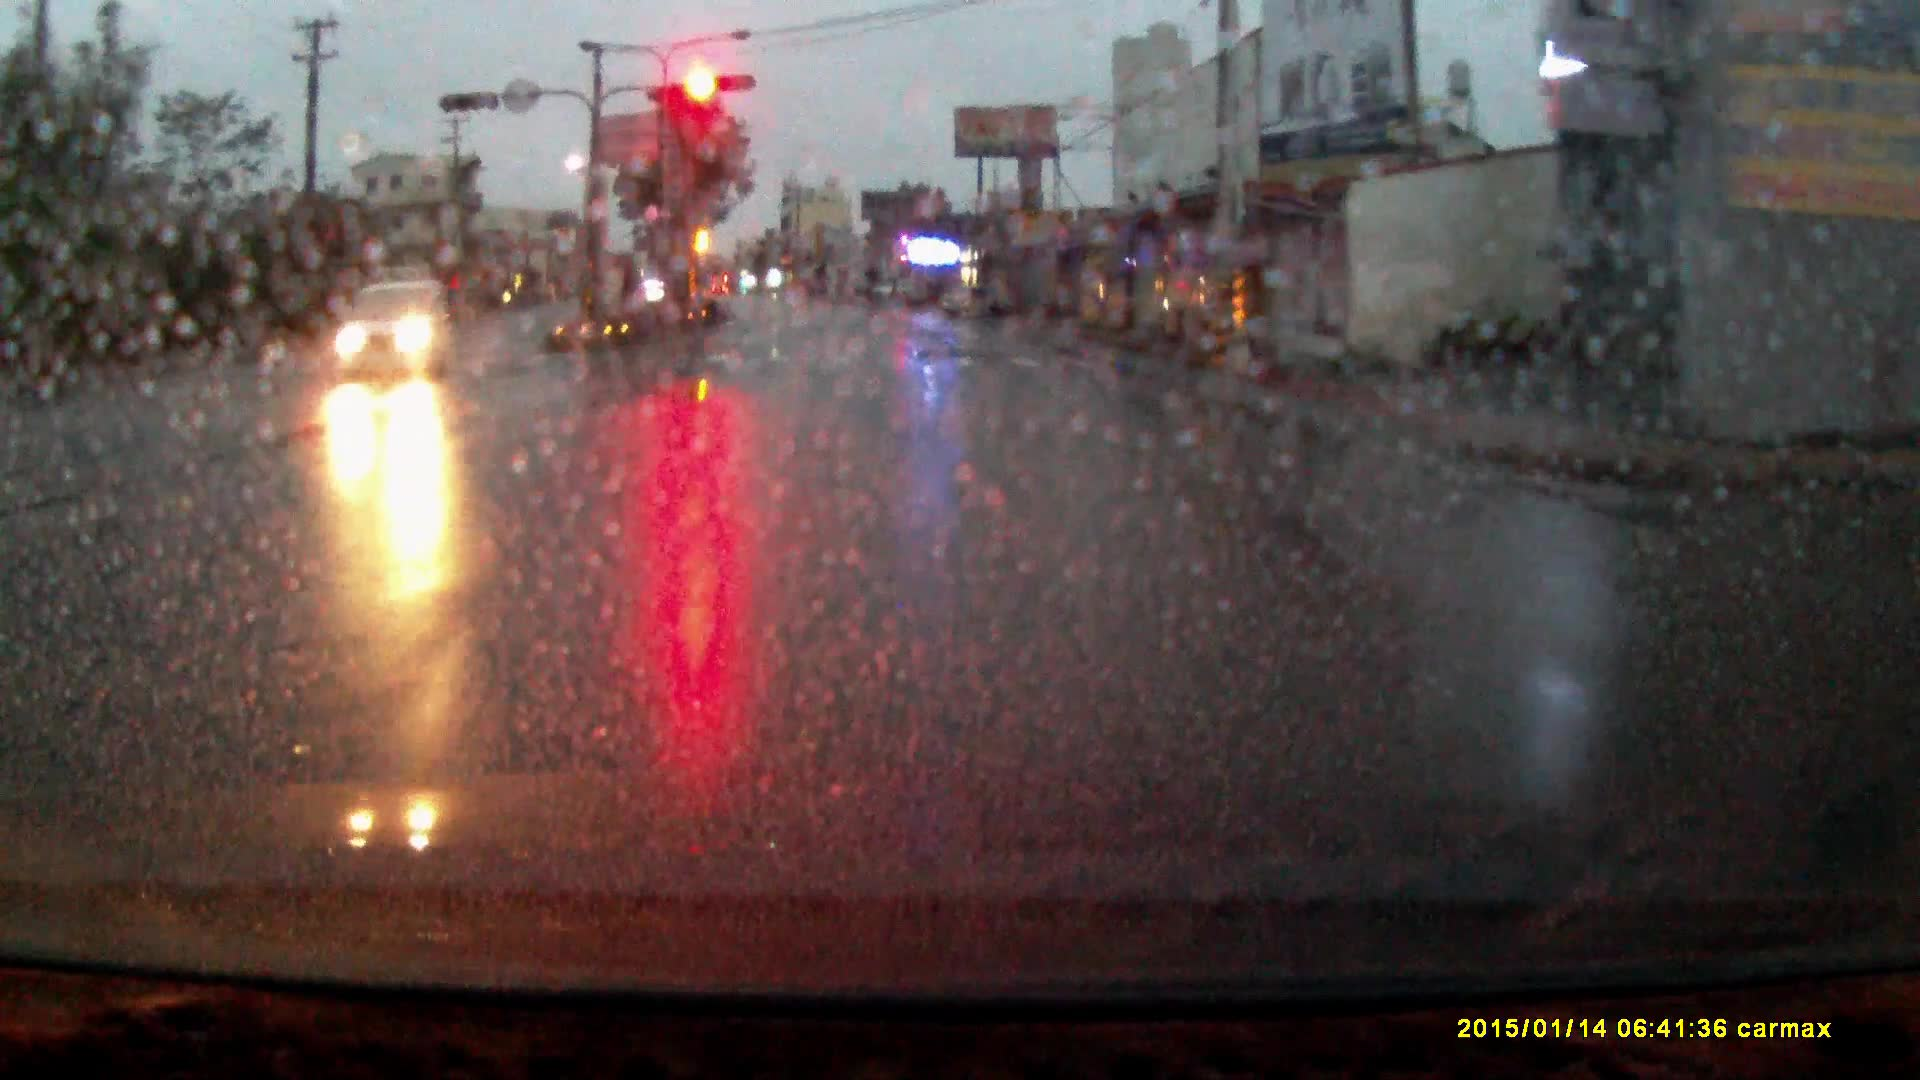vehicle: (334, 287, 454, 388)
